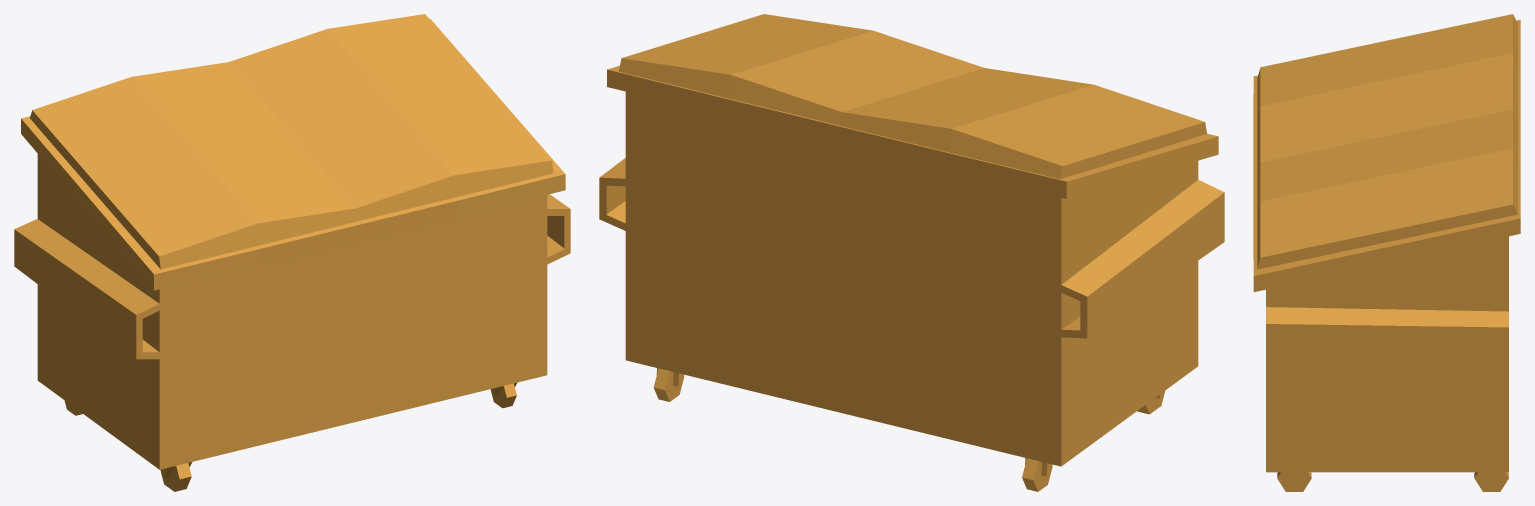
File: dumpster.fbx
3 renders of one model, left to right at view 1: azimuth 30°, elevation 25°; view 2: azimuth 150°, elevation 25°; view 3: azimuth 270°, elevation 25°, orthographic. The views are drawn at different scales.
Visible parts, largest first — view 1: dumpster; view 2: dumpster; view 3: dumpster.
Part boxes in pixels (x1,y1,x2,y2): dumpster: [14, 14, 570, 491]; dumpster: [599, 14, 1224, 491]; dumpster: [1253, 14, 1520, 491].
Bounding box in the file's own units: 2.05 × 1.42 × 1.1.
